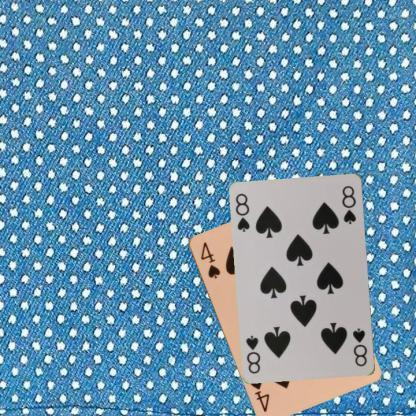4s: (198, 239, 221, 280)
8s: (350, 326, 369, 368), (233, 190, 251, 233)
